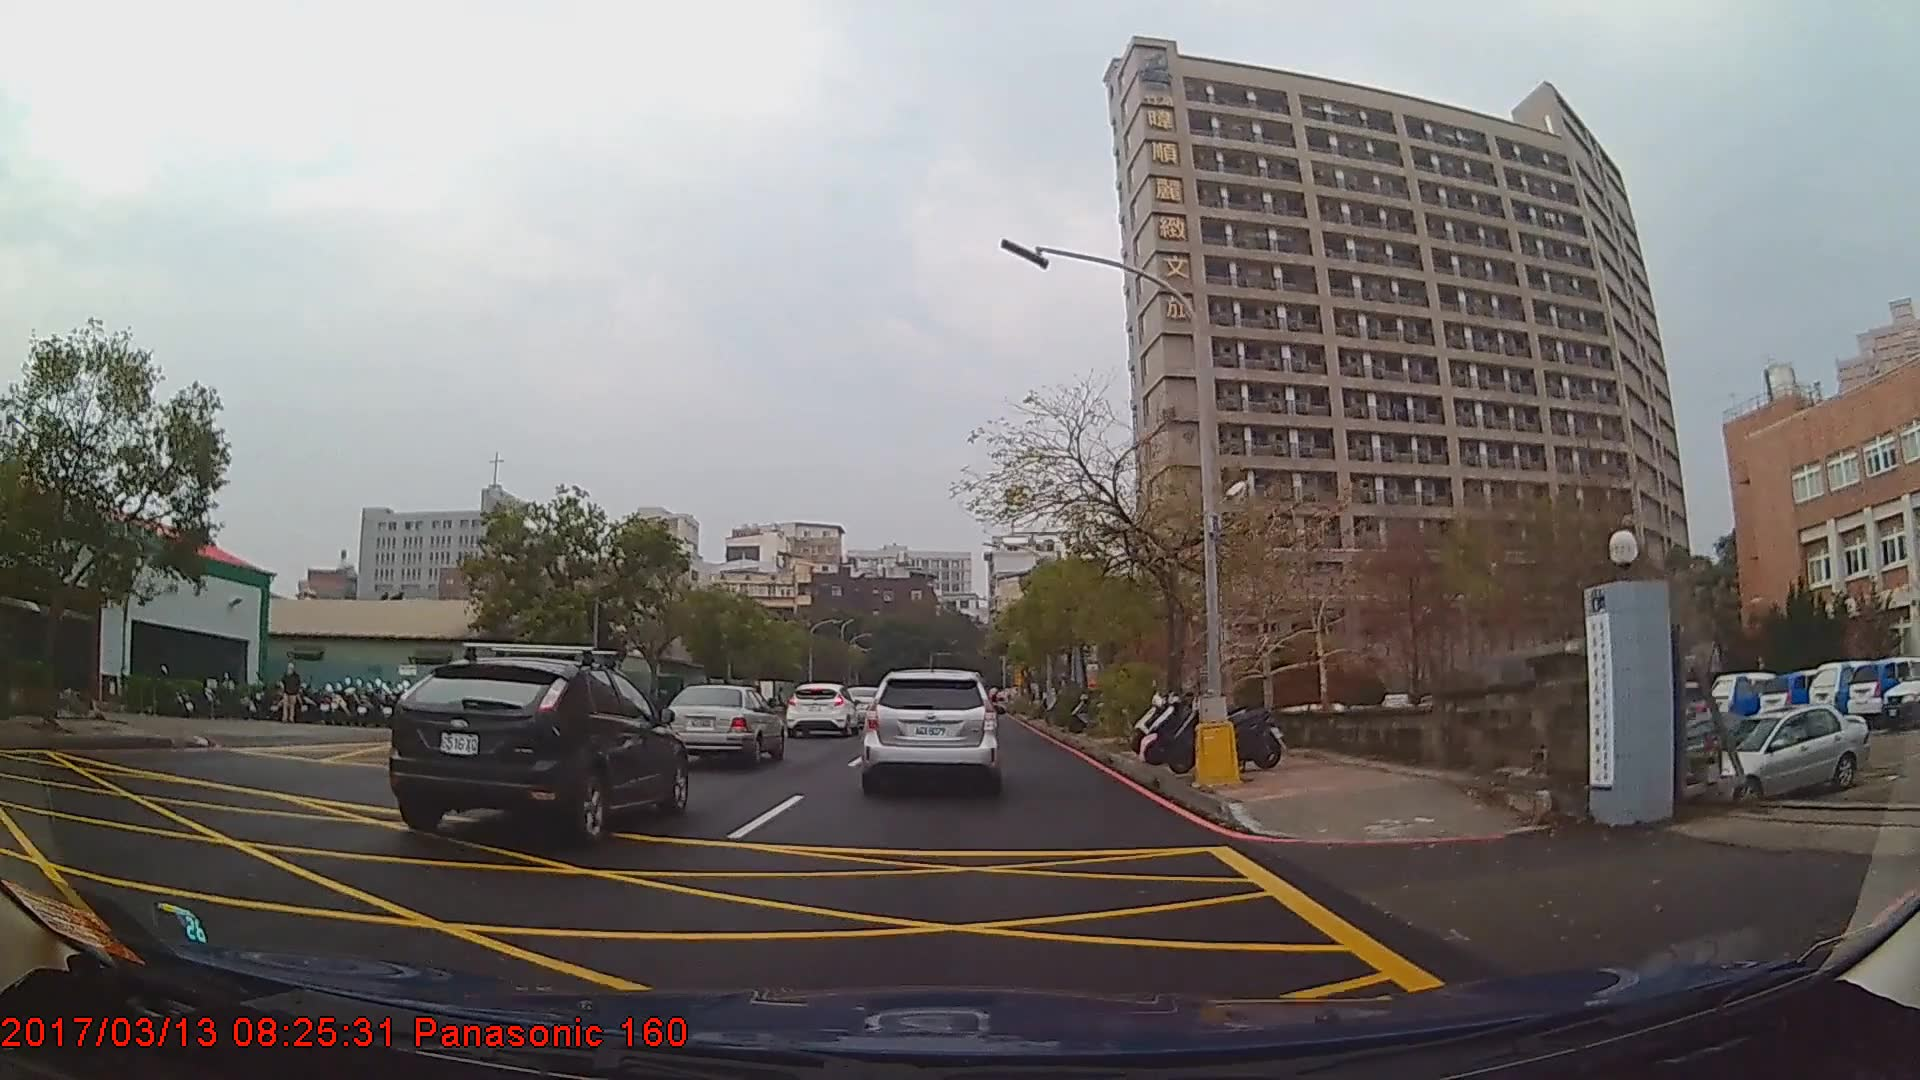pedestrian: (281, 664, 302, 724)
vehicle: (385, 654, 687, 840), (1686, 703, 1871, 801), (862, 667, 996, 793), (660, 681, 785, 766), (785, 682, 859, 740)
